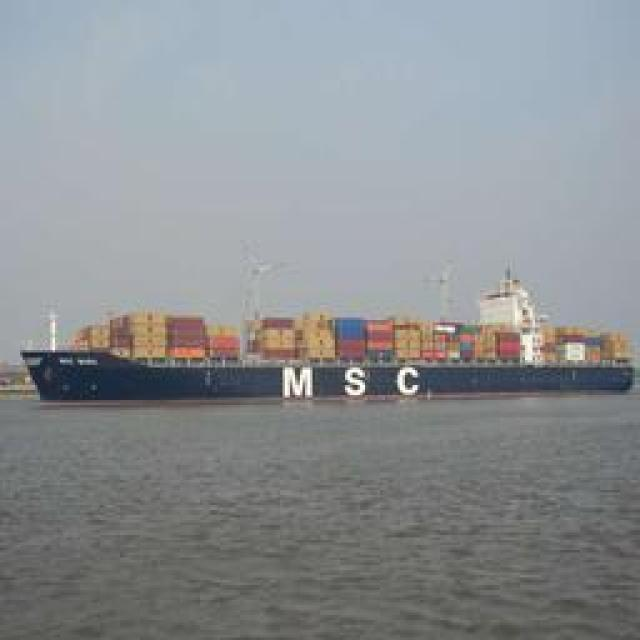CIV_Ship: (19, 294, 626, 398)
